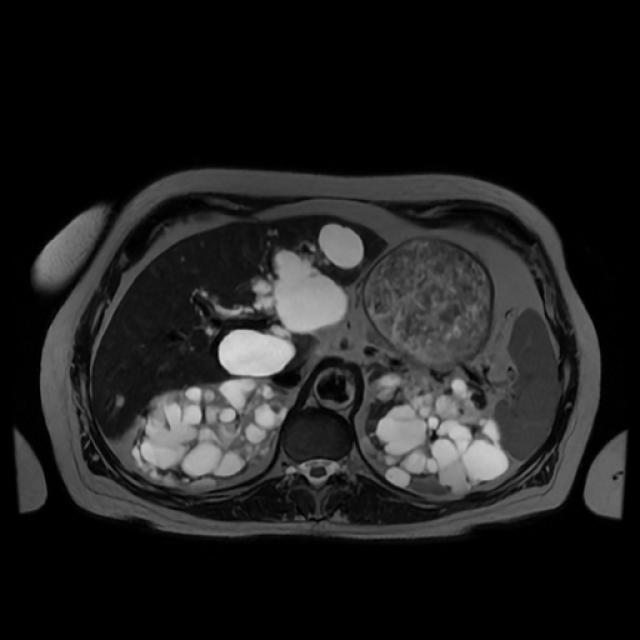sag: (132, 377, 289, 494)
sol: (362, 373, 510, 497)
